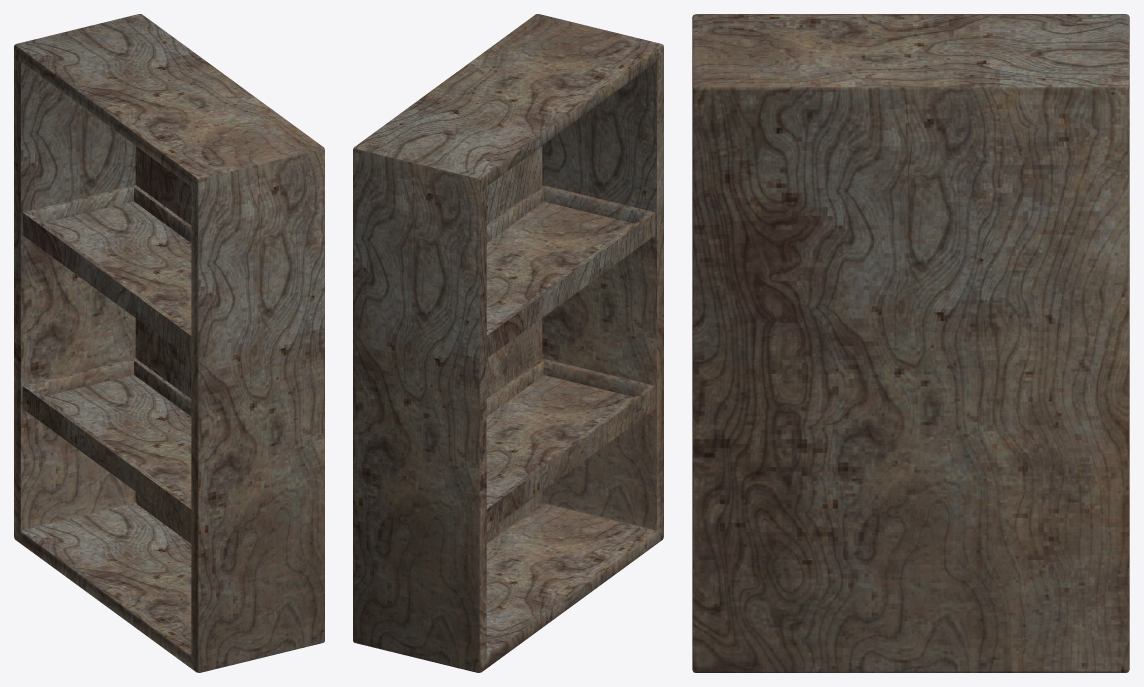
Rendered from _WoodenShelves_1.FBX.
3 views of the same model, side by side, from view 1: azimuth 30°, elevation 25°; view 2: azimuth 150°, elevation 25°; view 3: azimuth 270°, elevation 25° (orthographic). The views are drawn at different scales.
Visible parts, largest first — view 1: _WoodenShelves_1; view 2: _WoodenShelves_1; view 3: _WoodenShelves_1.
Boxes of the visible parts, x1,y1,x2,y2 form: _WoodenShelves_1: (14, 14, 324, 672); _WoodenShelves_1: (353, 14, 663, 672); _WoodenShelves_1: (692, 14, 1129, 672).
Bounding box in the file's own units: 50 × 185 × 125.
1 material, 1 textured.
